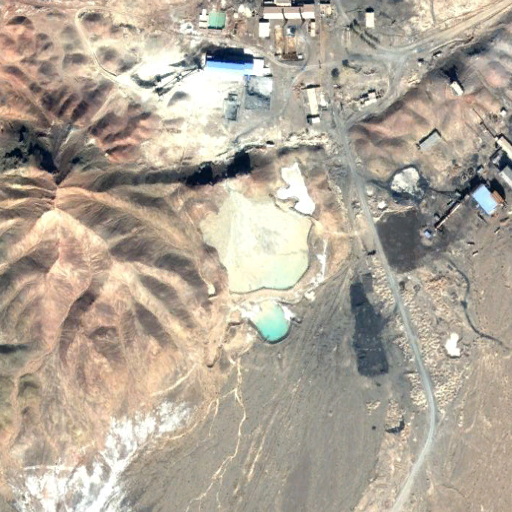tp: (199, 184, 314, 345)
